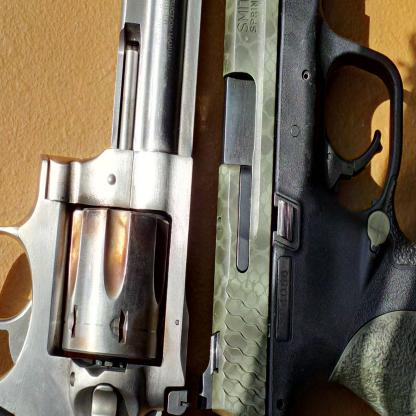gun: (0, 0, 222, 416), (202, 0, 416, 416)
